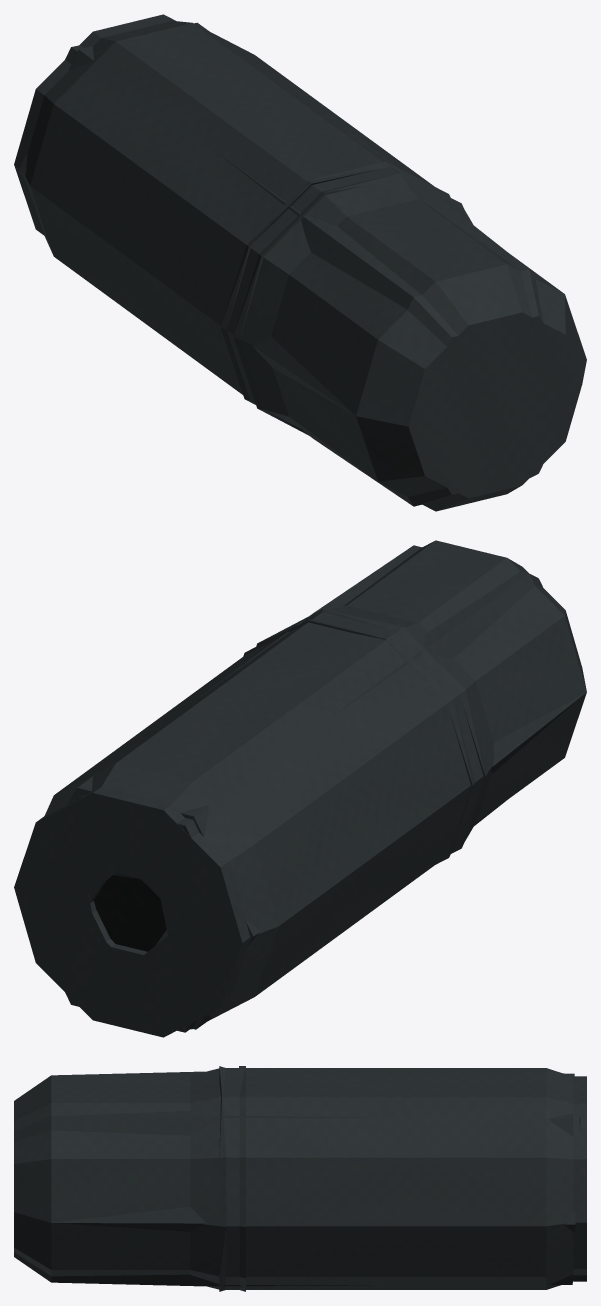
Rendered from mpx_can.glb.
3 views of the same model, one above another, from view 1: azimuth 30°, elevation 25°; view 2: azimuth 150°, elevation 25°; view 3: azimuth 270°, elevation 25° (orthographic). The views are drawn at different scales.
Visible parts, largest first — view 1: muzzle__mpx_can_LOD0_RAID_Secondary_Original_steel, muzzle__mpx_can_LOD1_RAID_Secondary_Original_steel; view 2: muzzle__mpx_can_LOD0_RAID_Secondary_Original_steel, muzzle__mpx_can_LOD1_RAID_Secondary_Original_steel, muzzle__mpx_can_LOD0_RAID_Secondary_Original_rubber; view 3: muzzle__mpx_can_LOD0_RAID_Secondary_Original_steel, muzzle__mpx_can_LOD1_RAID_Secondary_Original_steel.
Boxes of the visible parts, x1=… form: muzzle__mpx_can_LOD0_RAID_Secondary_Original_steel: x1=14, y1=14, x2=586, y2=511; muzzle__mpx_can_LOD1_RAID_Secondary_Original_steel: x1=19, y1=22, x2=581, y2=506; muzzle__mpx_can_LOD0_RAID_Secondary_Original_steel: x1=14, y1=540, x2=586, y2=1037; muzzle__mpx_can_LOD1_RAID_Secondary_Original_steel: x1=15, y1=545, x2=586, y2=1032; muzzle__mpx_can_LOD0_RAID_Secondary_Original_rubber: x1=94, y1=875, x2=166, y2=951; muzzle__mpx_can_LOD0_RAID_Secondary_Original_steel: x1=14, y1=1066, x2=586, y2=1291; muzzle__mpx_can_LOD1_RAID_Secondary_Original_steel: x1=14, y1=1071, x2=586, y2=1286.
Size of the model in its own units: 0.0671 by 0.0638 by 0.169.
2 materials, 2 textured.
